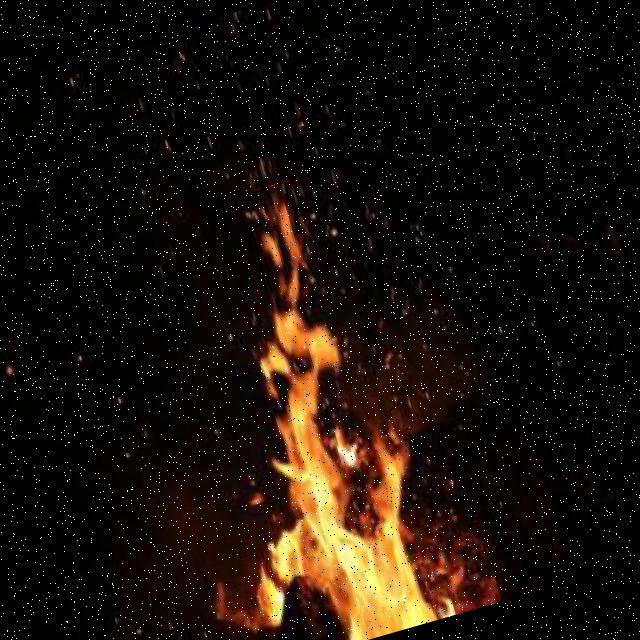fire: (101, 157, 501, 640)
